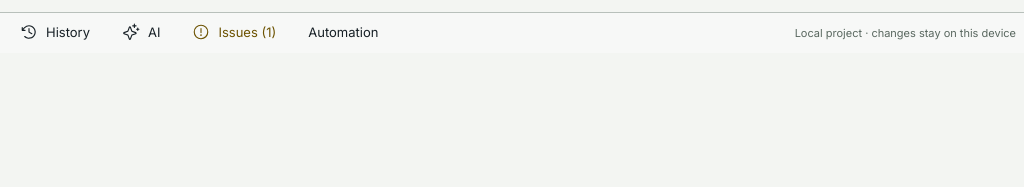
Test case: model success and optional drawing guidance › shows a failed worker without result diagnostics as an issue
Click the button "Issues (1)" at (234, 33), box [180,13,288,53]
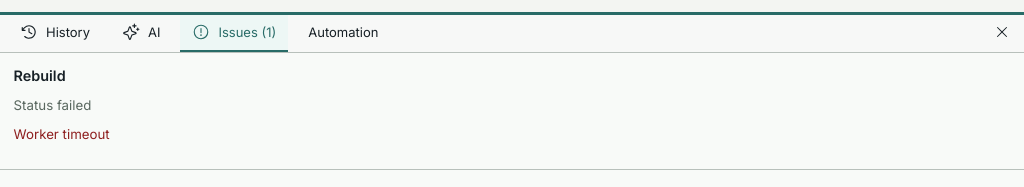
Expected: the message reads "Worker timeout", [14,126,110,142]
